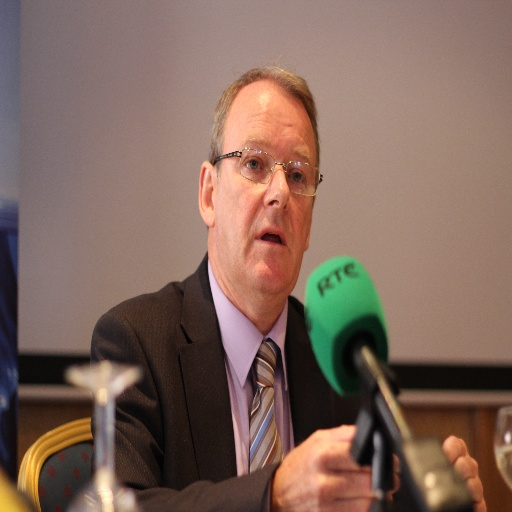hand: (283, 421, 381, 505), (440, 433, 486, 511)
